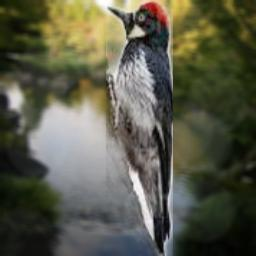Woodpecker: (106, 0, 173, 256)
